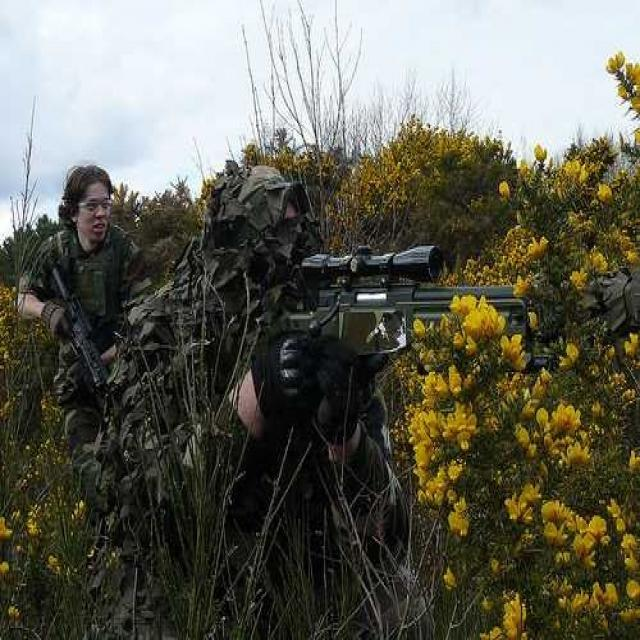weapon: (221, 156, 543, 416), (28, 251, 132, 433)
